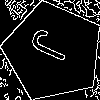J: (28, 26, 81, 68)
